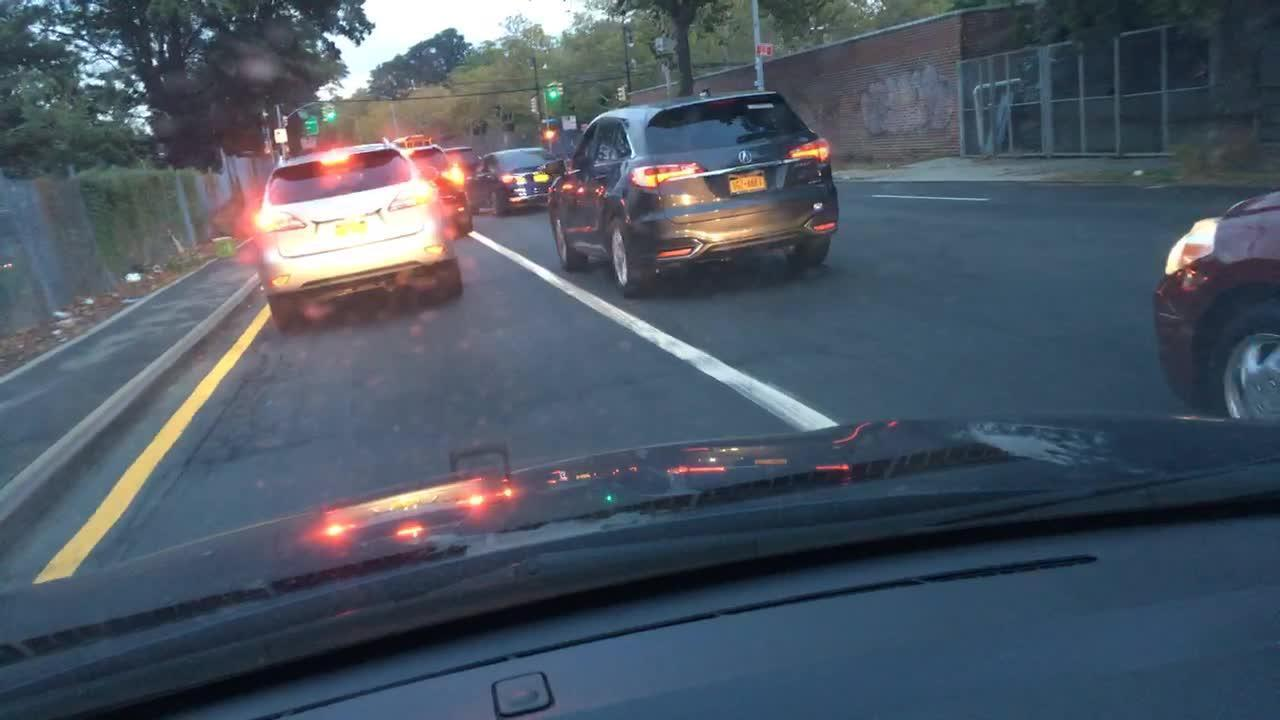acura: (735, 146, 756, 169)
